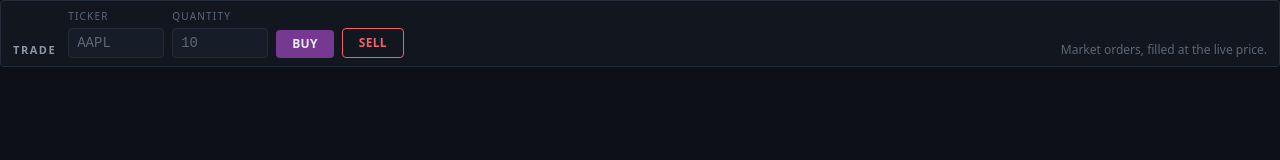
Scenario: TradeBar › does not spend a round trip on an empty form
Click the button "Buy". click: [305, 44]
box: left=276, top=30, right=334, bottom=58
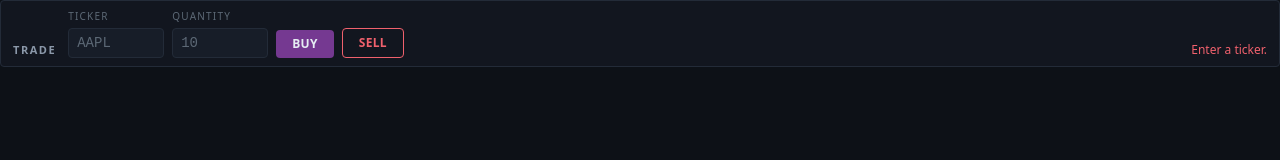
Check: the message reads "Enter a ticker.", box left=1191, top=41, right=1267, bottom=58
